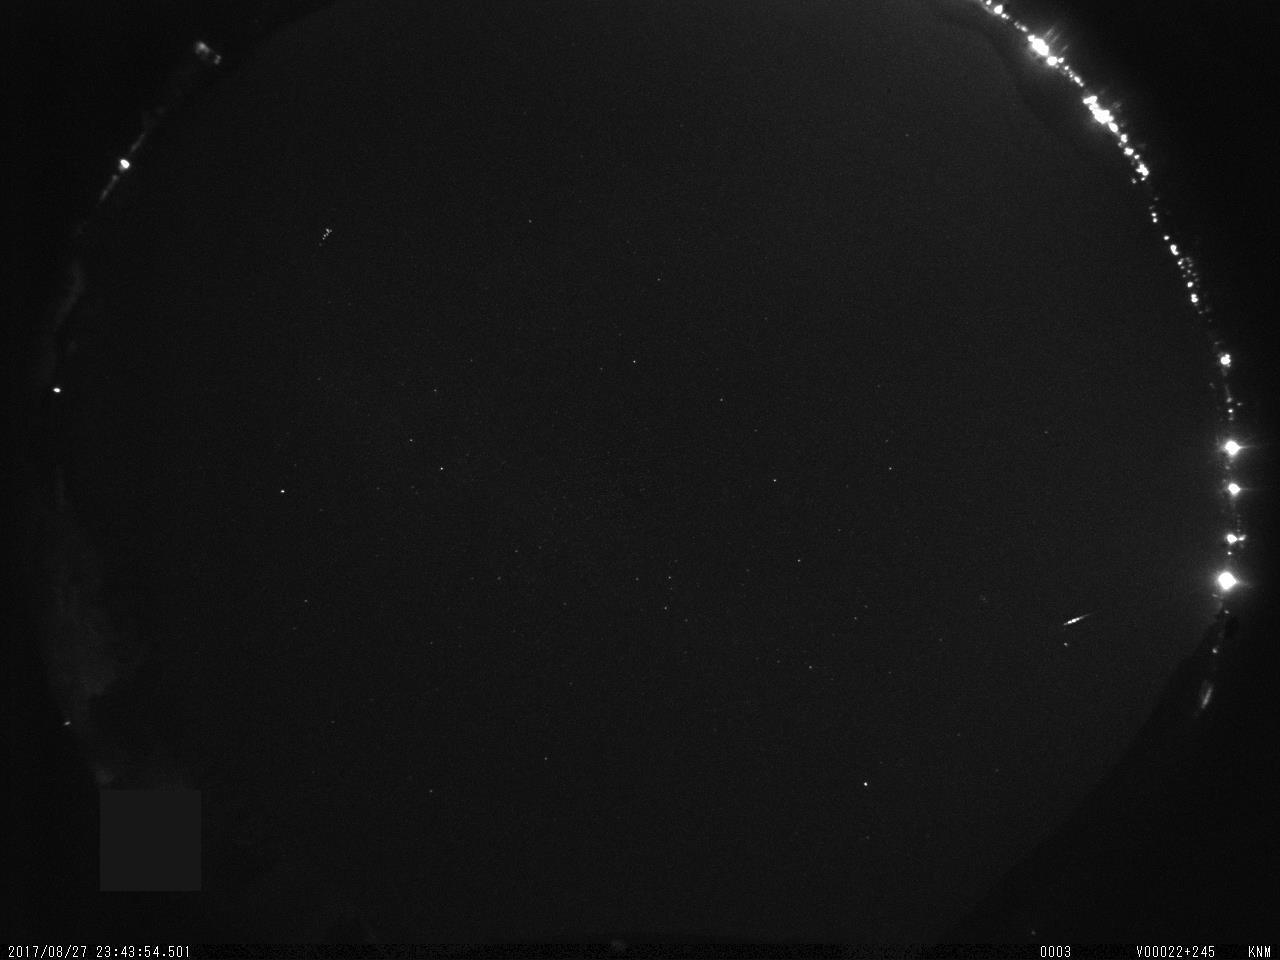Meteor: (1050, 602, 1095, 637)
